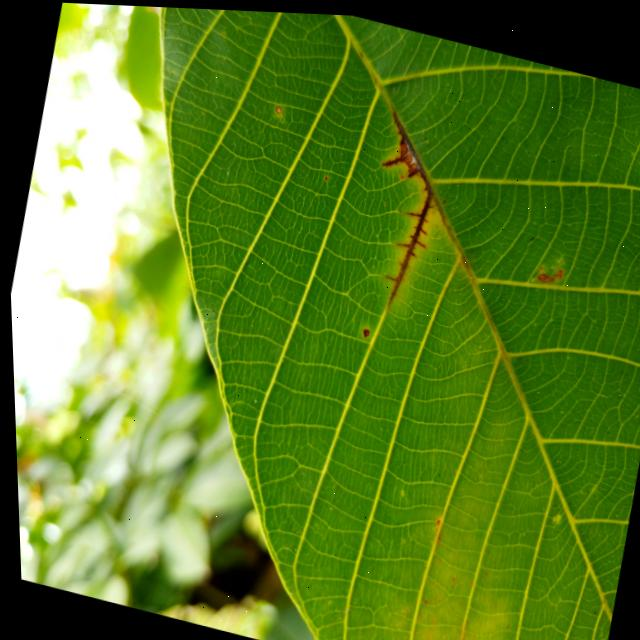Colletotrichum: (357, 325, 367, 335)
Corynespora: (370, 179, 437, 312), (374, 103, 442, 188), (378, 147, 401, 168)
